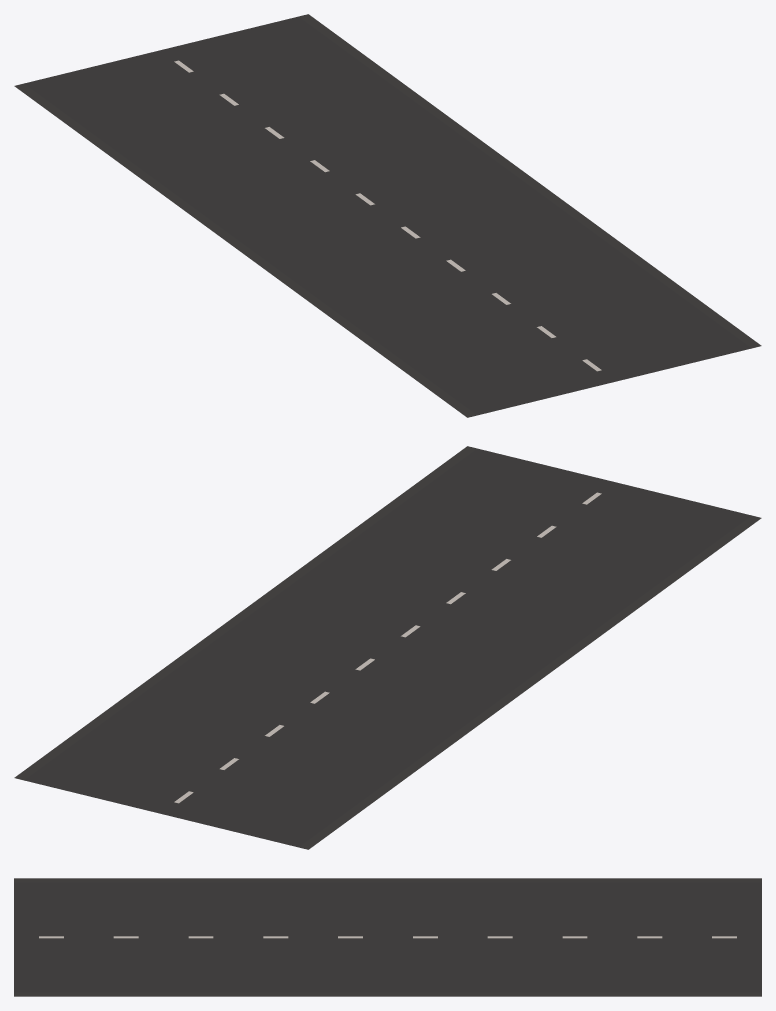
File: RoadTile.fbx
The picture shows the model from 3 angles, top to bottom: view 1: azimuth 30°, elevation 25°; view 2: azimuth 150°, elevation 25°; view 3: azimuth 270°, elevation 25°; orthographic projection. The views are drawn at different scales.
Parts seen in each view (by area): view 1: RoadTile; view 2: RoadTile; view 3: RoadTile.
Part boxes in pixels (box(x1,y1,x2,y2)): RoadTile: box(14, 14, 761, 417); RoadTile: box(14, 446, 761, 849); RoadTile: box(14, 878, 761, 996).
Size of the model in its own units: 600 by 0.1208 by 1600.
Materials: 1 (1 with a texture image).
